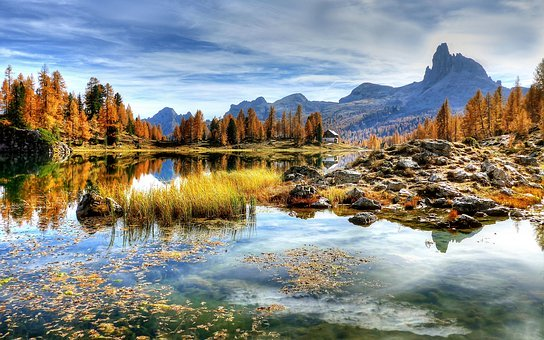lake: (8, 156, 531, 340)
mountain: (267, 54, 536, 142)
sky: (2, 2, 544, 83)
tree: (3, 77, 163, 155)
